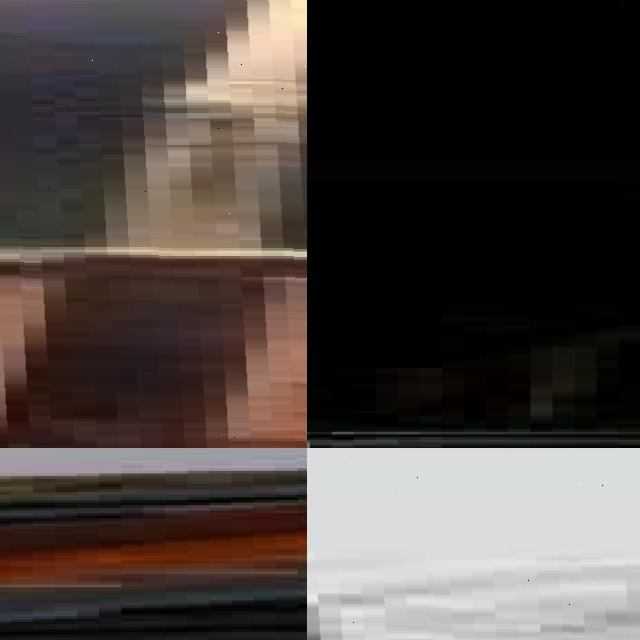street light: (0, 0, 307, 448), (307, 448, 640, 640)
